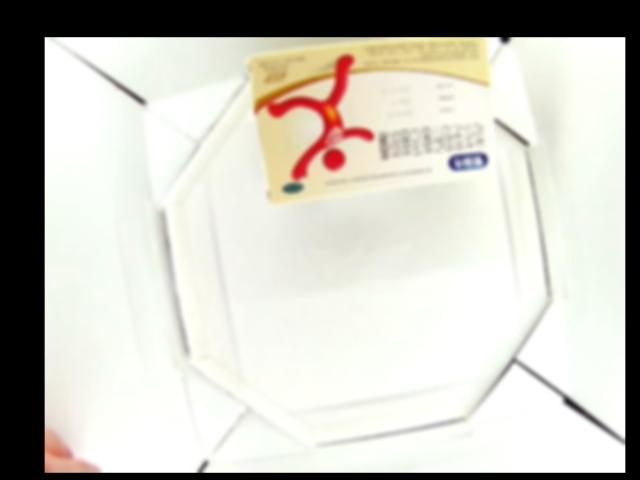Medicine: (251, 38, 497, 205)
